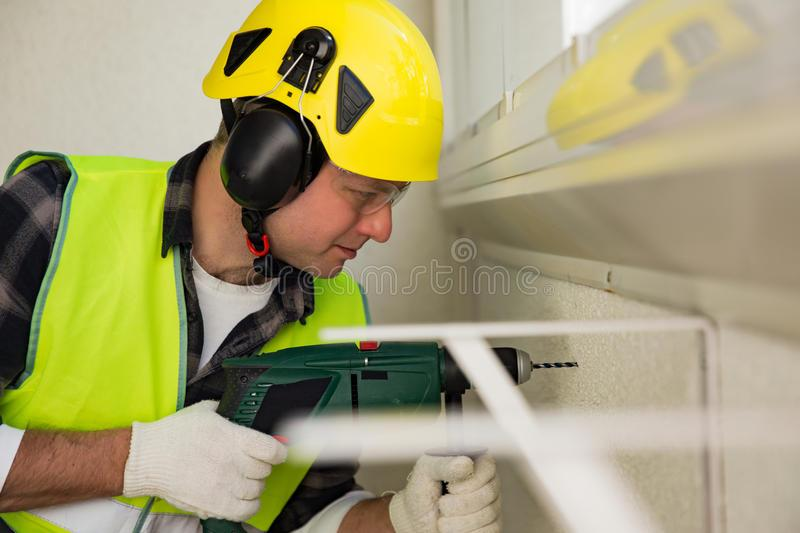helmet: (200, 1, 446, 185)
